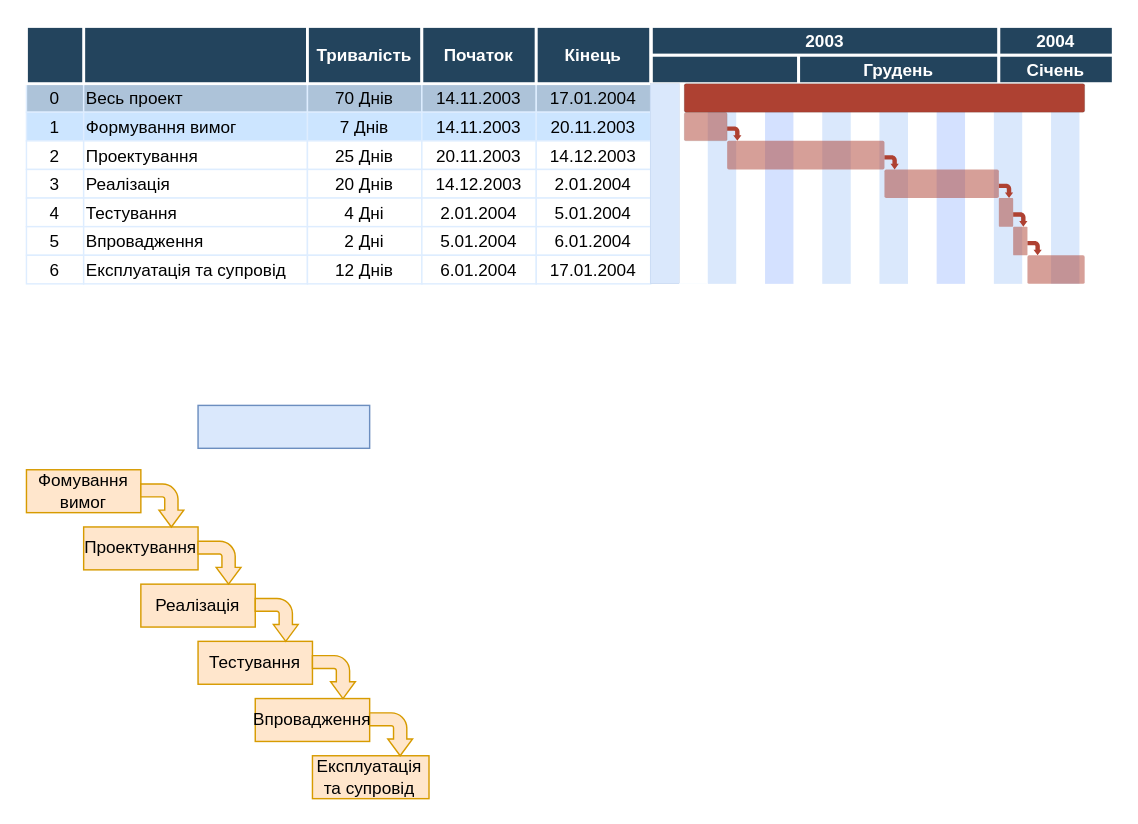
Some shapes in this 1138 by 824 pixel diagram are drawn without their labels. Each missing label, with the centre of its shape:
"Життєвий цикл ПЗ" goes at (x=283, y=426).
"Код" goes at (x=54, y=54).
"Листопад" goes at (x=724, y=68).
"Назва завдання" goes at (x=195, y=54).
